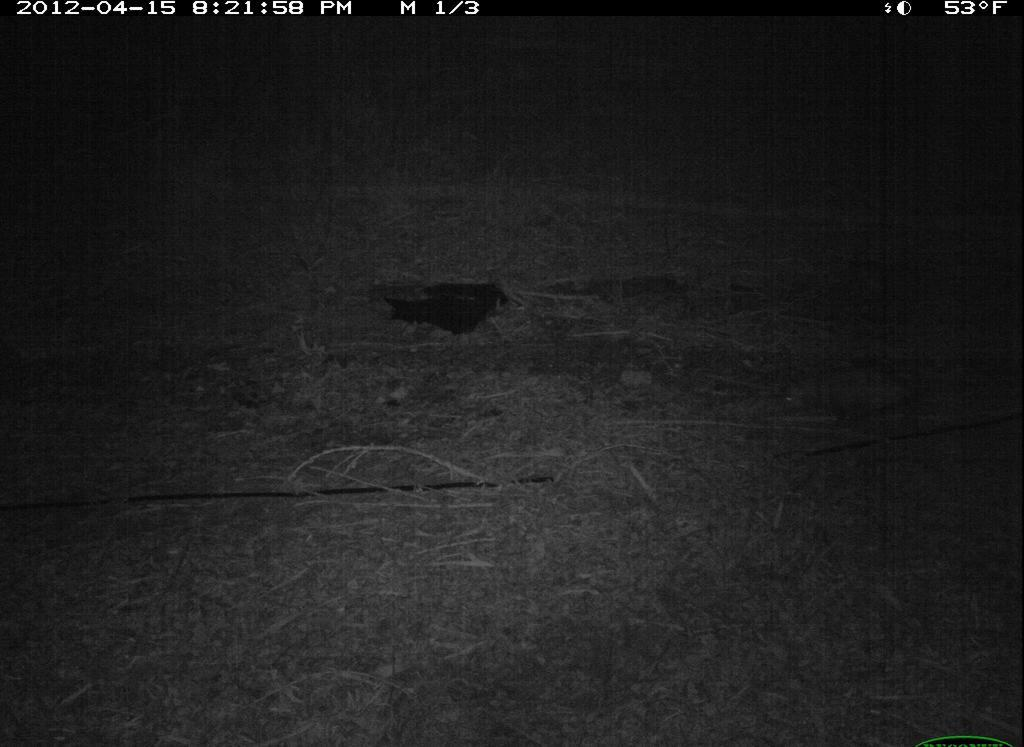opossum: (780, 353, 920, 440)
